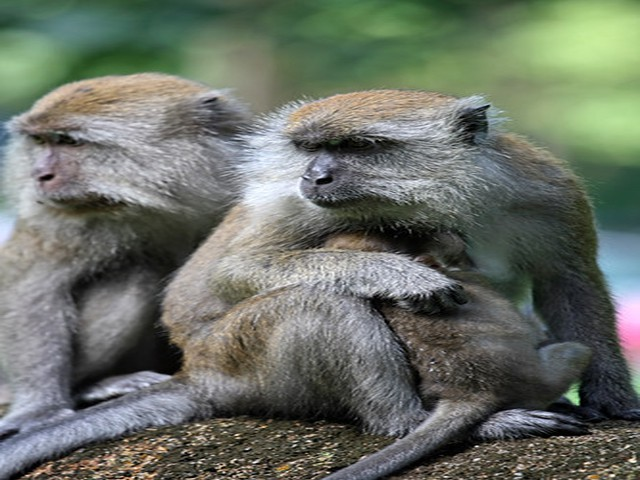Monkey: (4, 67, 638, 443)
